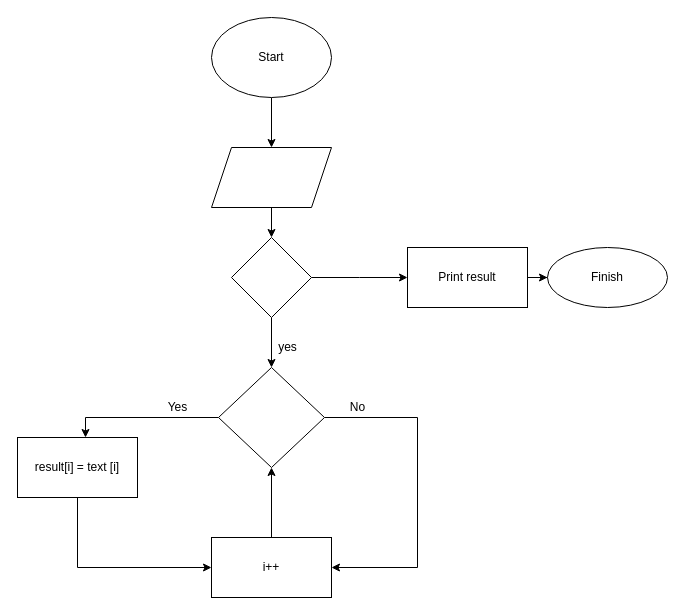
The diagram is 685 pixels wide and 615 high, and some of its shapes have lost their labels. Here are the shapes that lost their labels. From the top down, the centre of each, then its label:
the point at 271,177: string [] text string [] result i = 0
the point at 271,277: i< text.length
the point at 271,417: array[i].length <=3
